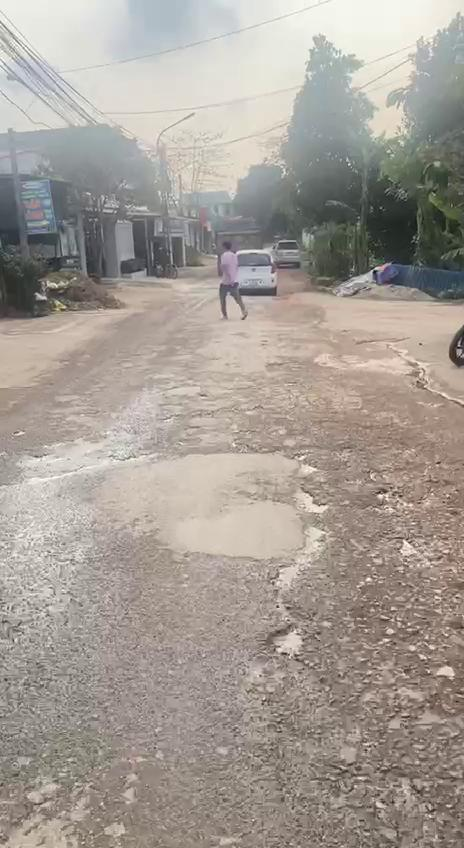pothole: (268, 517, 332, 607), (365, 464, 420, 522), (287, 456, 333, 521), (264, 620, 317, 666)
